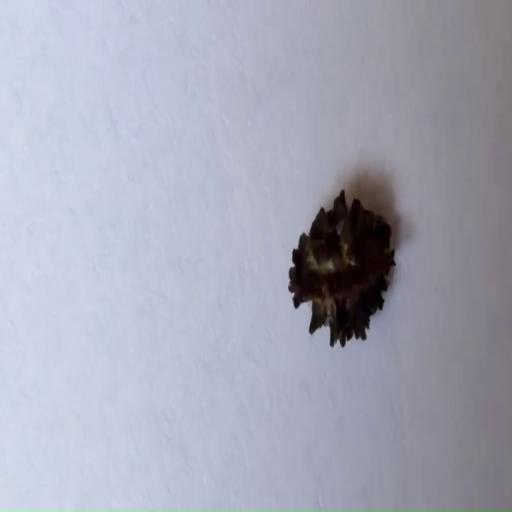papaya_seed: (286, 178, 402, 366)
